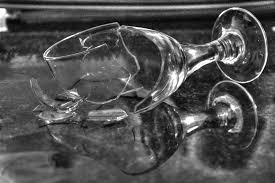glass: (121, 6, 270, 111), (131, 79, 263, 174), (38, 20, 142, 104), (24, 77, 85, 127)
